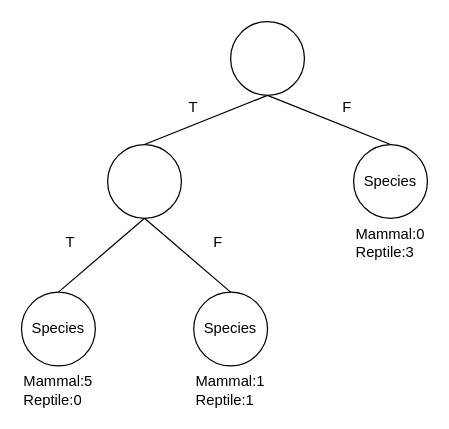
Image size: 449x429. Some labels were removed from this diagram. The shapes that lost their labels are listed below. From the top down, each one's centre as x and y in pixels, then its label:
At point 266,57: "Legs".
At point 143,180: "Toothed".
